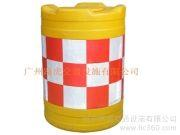sign: (36, 1, 132, 133)
